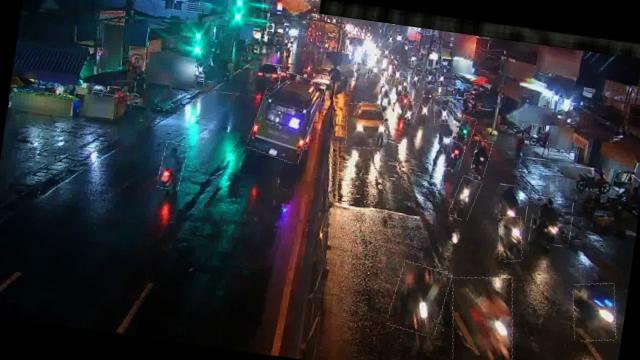Bike: (443, 271, 520, 360), (387, 262, 450, 336), (568, 279, 621, 344), (527, 195, 574, 246), (564, 166, 613, 200), (494, 215, 526, 263), (156, 140, 186, 190), (450, 176, 480, 222), (492, 184, 528, 222), (470, 138, 491, 178), (439, 138, 465, 170), (431, 94, 455, 124), (455, 114, 476, 144), (436, 120, 454, 152), (376, 85, 392, 113), (402, 100, 418, 124), (419, 95, 432, 117), (410, 68, 422, 90), (394, 77, 404, 97), (401, 72, 410, 94)
Bus: (248, 67, 322, 164)
Car: (342, 100, 386, 151), (254, 62, 282, 88)
